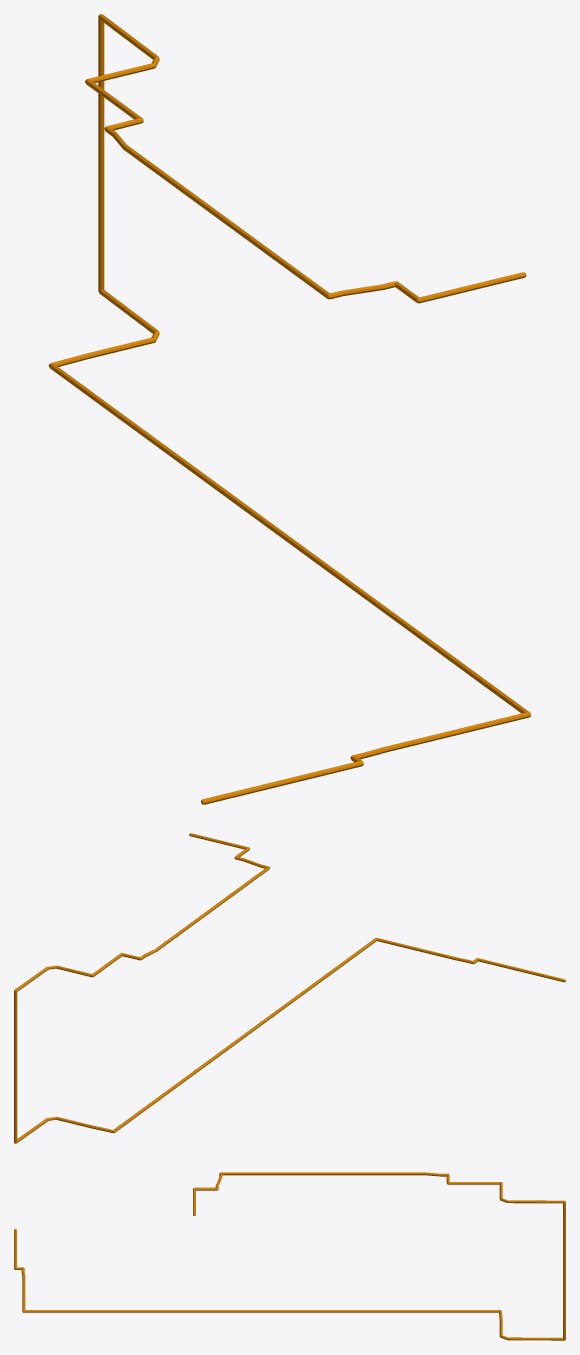
The picture shows the model from 3 angles, top to bottom: view 1: azimuth 30°, elevation 25°; view 2: azimuth 150°, elevation 25°; view 3: azimuth 270°, elevation 25°; orthographic projection. The views are drawn at different scales.
Size of the model in its own units: 1923 by 1020 by 3648.
